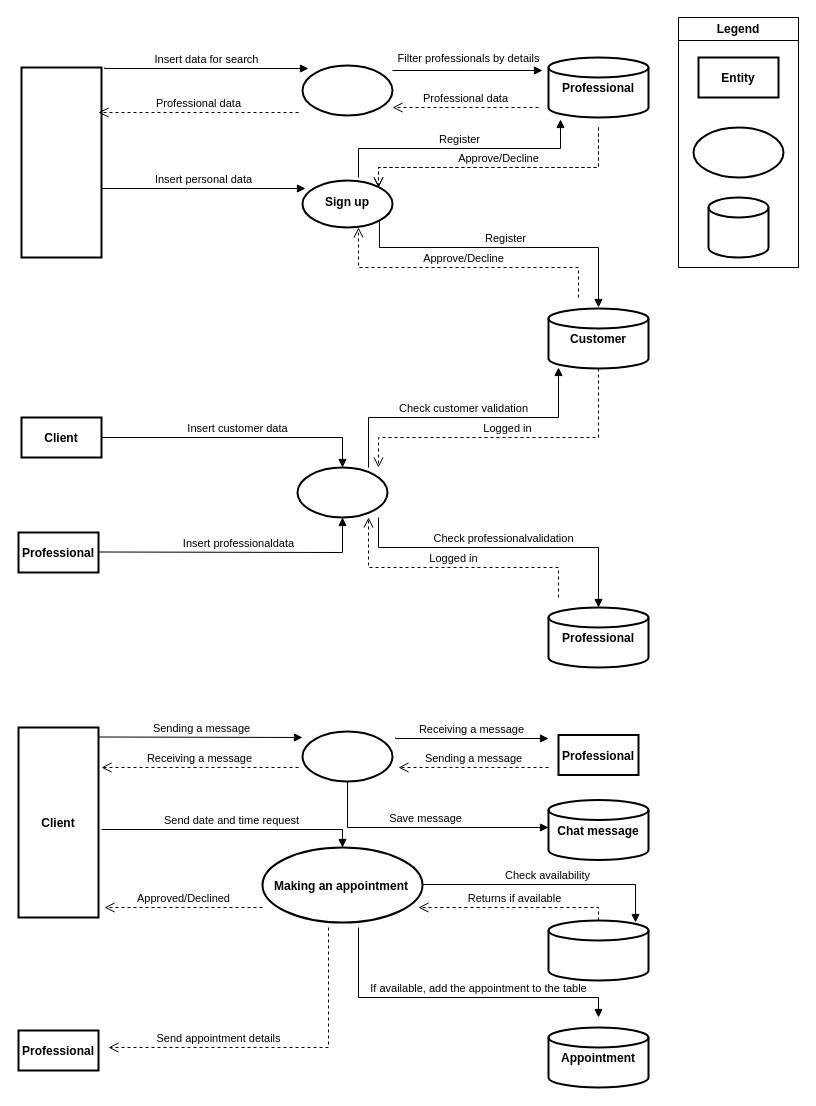
Image size: 816x1106. Some labels were removed from this diagram. Each missing label, with the centre of its shape:
"Chat" belongs at point 347,756.
"Database" belongs at point 738,227.
"Guest" belongs at point 61,162.
"Login" belongs at point 342,492.
"Process" belongs at point 738,152.
"Schedule" belongs at point 598,950.
"Search" belongs at point 347,90.
